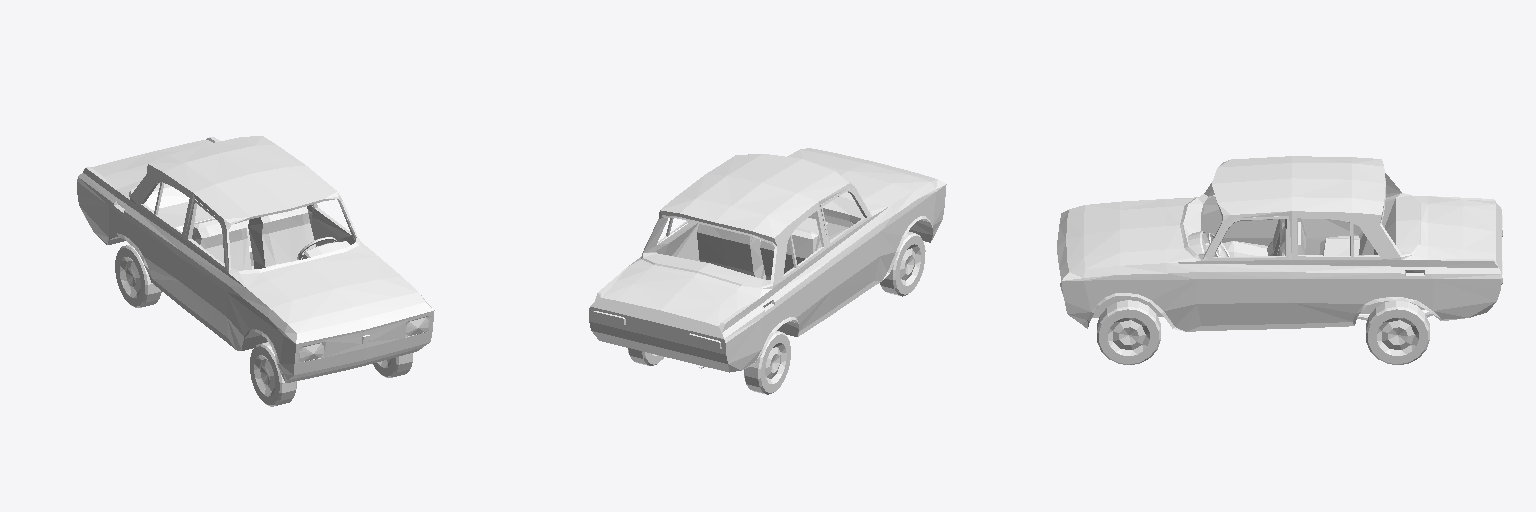
Rendered from tb6_Moskvitch.obj.
3 views of the same model, side by side, from view 1: azimuth 30°, elevation 25°; view 2: azimuth 150°, elevation 25°; view 3: azimuth 270°, elevation 25° (orthographic).
Visible parts, largest first — view 1: Moskvitch_Moskvitch_moskvitchMAT1, Moskvitch_Moskvitch_moskvitchMAT0; view 2: Moskvitch_Moskvitch_moskvitchMAT1; view 3: Moskvitch_Moskvitch_moskvitchMAT1.
Part boxes in pixels (x1,y1,x2,y2): Moskvitch_Moskvitch_moskvitchMAT1: (77, 136, 434, 406); Moskvitch_Moskvitch_moskvitchMAT0: (298, 316, 430, 361); Moskvitch_Moskvitch_moskvitchMAT1: (589, 148, 946, 394); Moskvitch_Moskvitch_moskvitchMAT1: (1057, 156, 1502, 364).
Bounding box in the file's own units: 1.69 × 1.73 × 4.52.